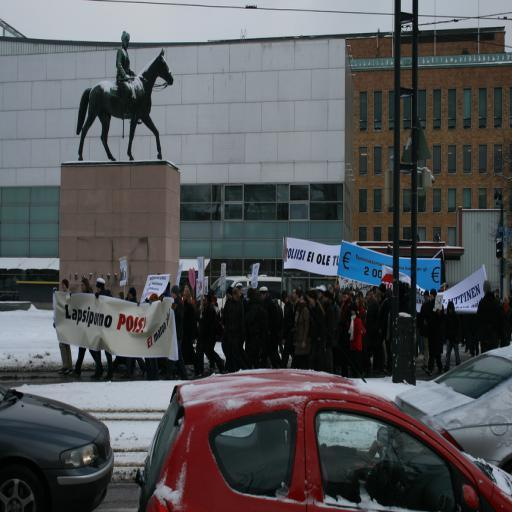horse: (74, 44, 176, 162)
